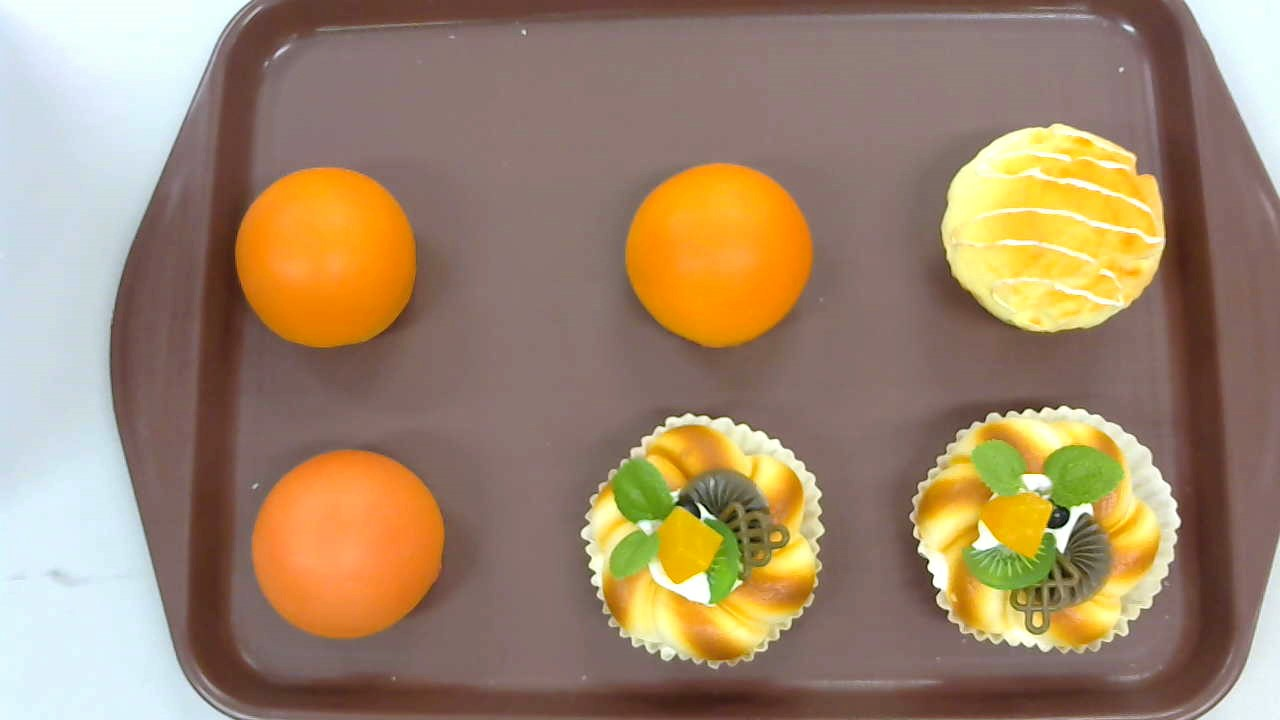bun: (252, 447, 444, 639), (625, 162, 813, 347), (234, 166, 415, 350)
cupcake: (939, 123, 1166, 334)
fruit tart: (907, 406, 1180, 655), (578, 413, 825, 669)
